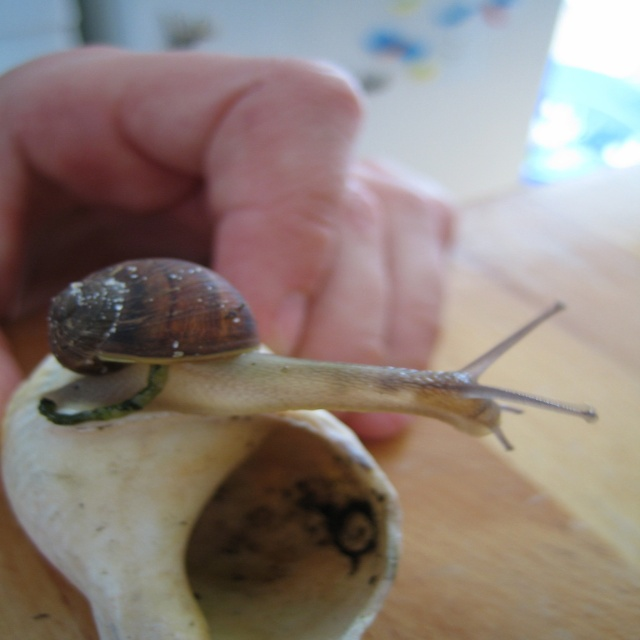Snail: (23, 256, 610, 454)
